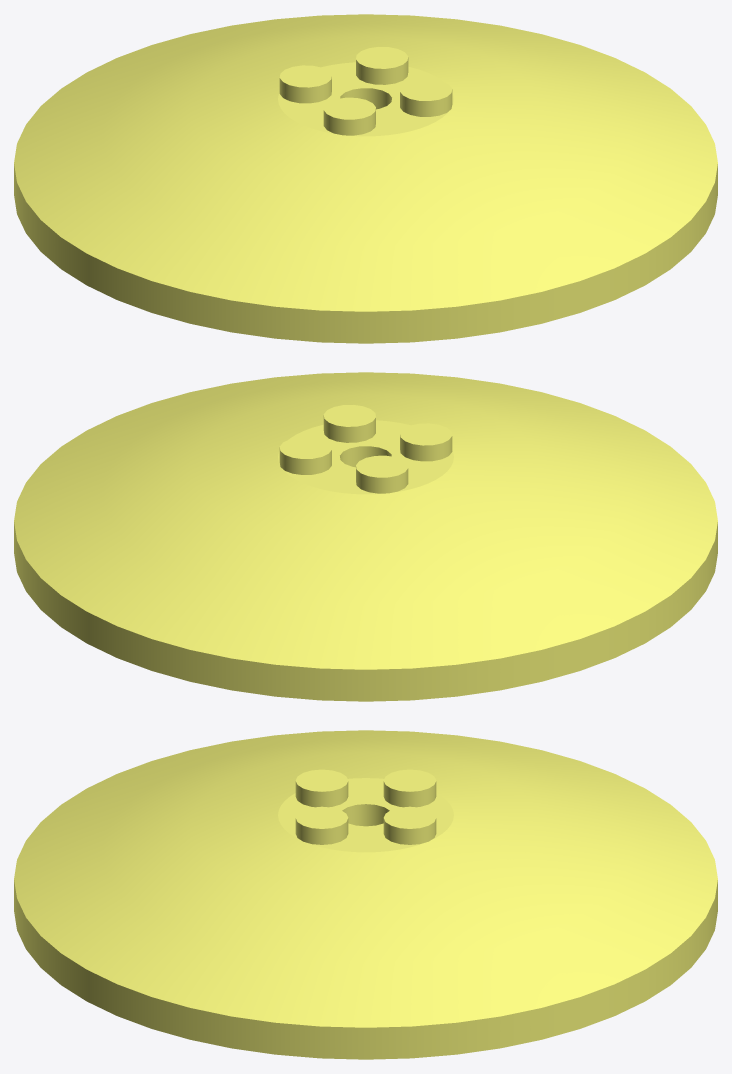
3 renders of one model, top to bottom at view 1: azimuth 30°, elevation 25°; view 2: azimuth 150°, elevation 25°; view 3: azimuth 270°, elevation 25°, orthographic.
Parts seen in each view (by area): view 1: 3961.dat; view 2: 3961.dat; view 3: 3961.dat.
Boxes of the visible parts, <box> form: 3961.dat: <box>14,14,717,343</box>; 3961.dat: <box>14,372,717,701</box>; 3961.dat: <box>14,730,717,1059</box>.
Bounding box in the file's own units: 0.064 × 0.0112 × 0.064.
